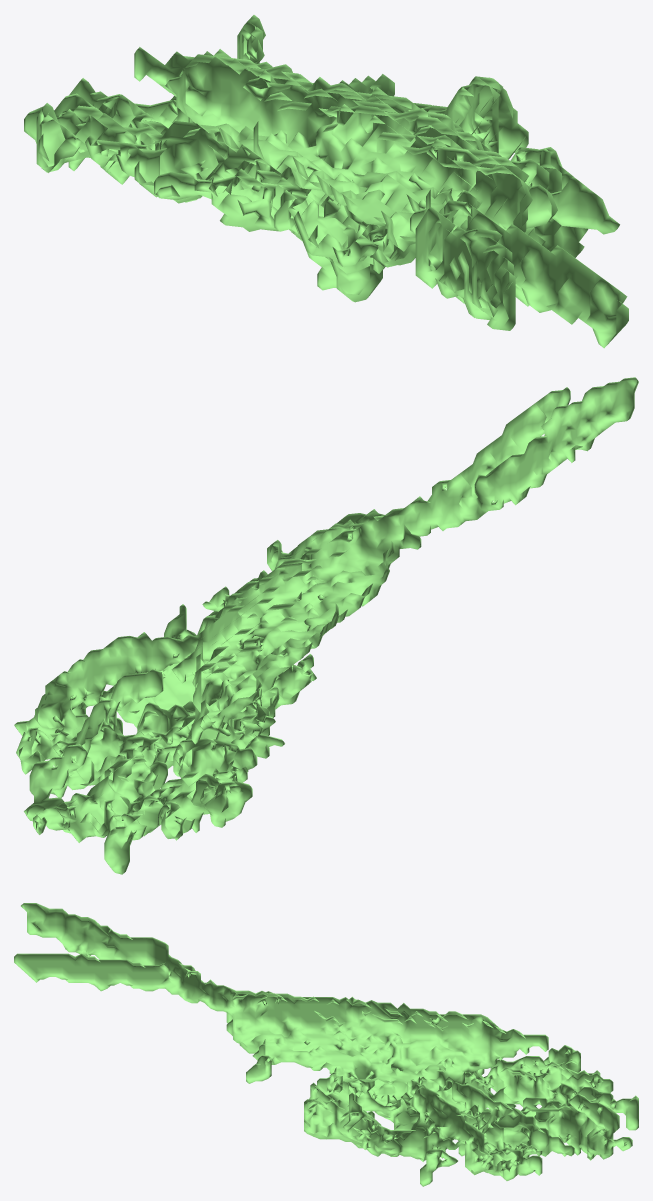
Rendered from osteocyte_55.glb.
3 renders of one model, top to bottom at view 1: azimuth 30°, elevation 25°; view 2: azimuth 150°, elevation 25°; view 3: azimuth 270°, elevation 25°, orthographic. The views are drawn at different scales.
Visible parts, largest first — view 1: osteocyte_55; view 2: osteocyte_55; view 3: osteocyte_55.
Part boxes in pixels (box(x1,y1,x2,y2)): osteocyte_55: box(24, 15, 628, 348); osteocyte_55: box(14, 377, 638, 874); osteocyte_55: box(14, 903, 638, 1186).
Bounding box in the file's own units: 20.7 × 15.89 × 46.7.
